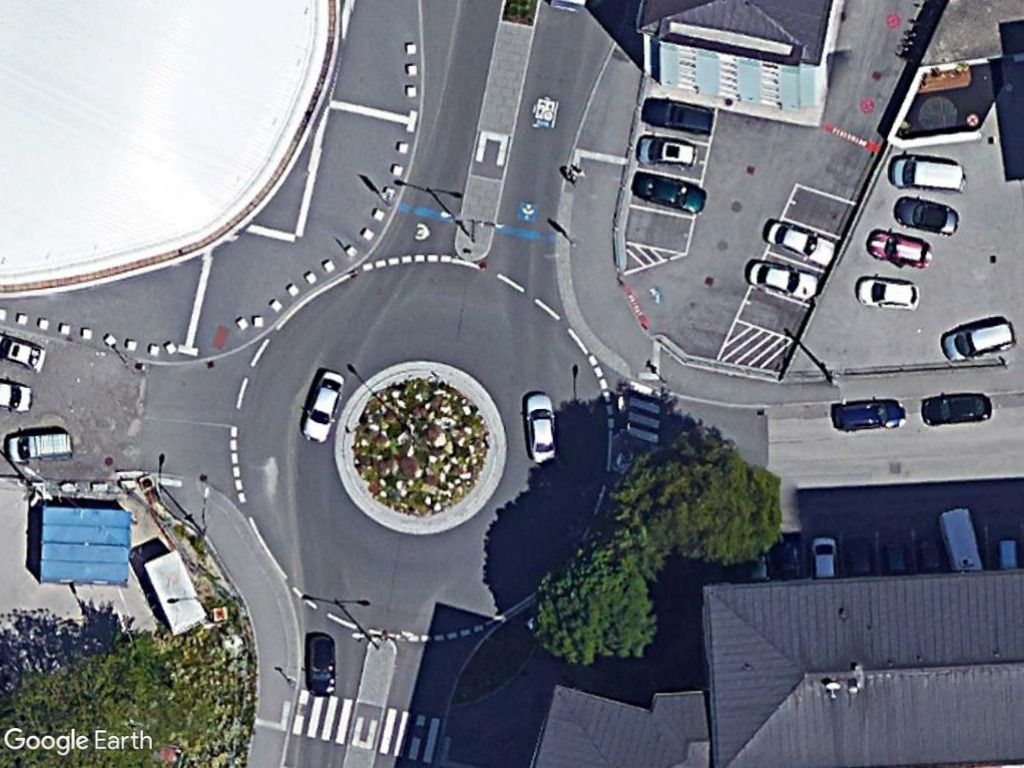car: (761, 215, 842, 268), (742, 255, 825, 304), (298, 365, 346, 449), (629, 169, 713, 217), (881, 152, 969, 195), (860, 226, 937, 273), (519, 385, 561, 469), (299, 627, 344, 705), (852, 270, 928, 314), (889, 192, 960, 239), (628, 133, 702, 173)
van: (939, 311, 1018, 368), (1, 426, 78, 469)
